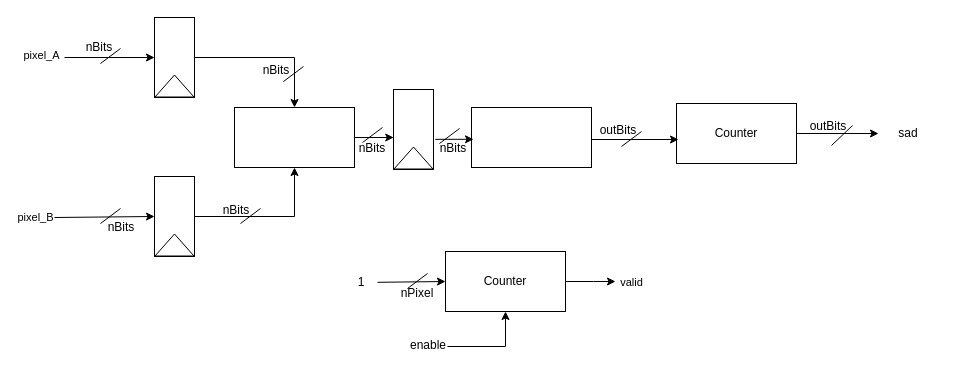
Image size: 956x378. Some labels were removed from this diagram. Here are the shapes that lost their labels. From the top down, the centre of each, then its label:
At pixel 294 137: "Subtractor".
At pixel 531 137: "Padding".
